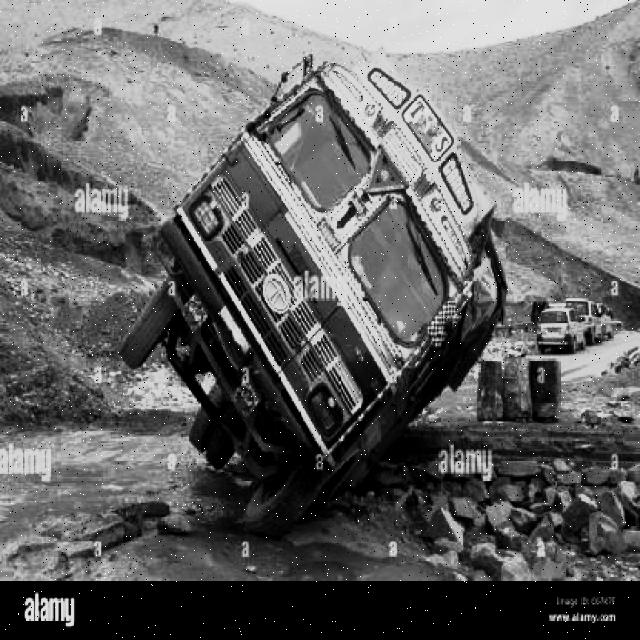HCV: (123, 42, 456, 514)
